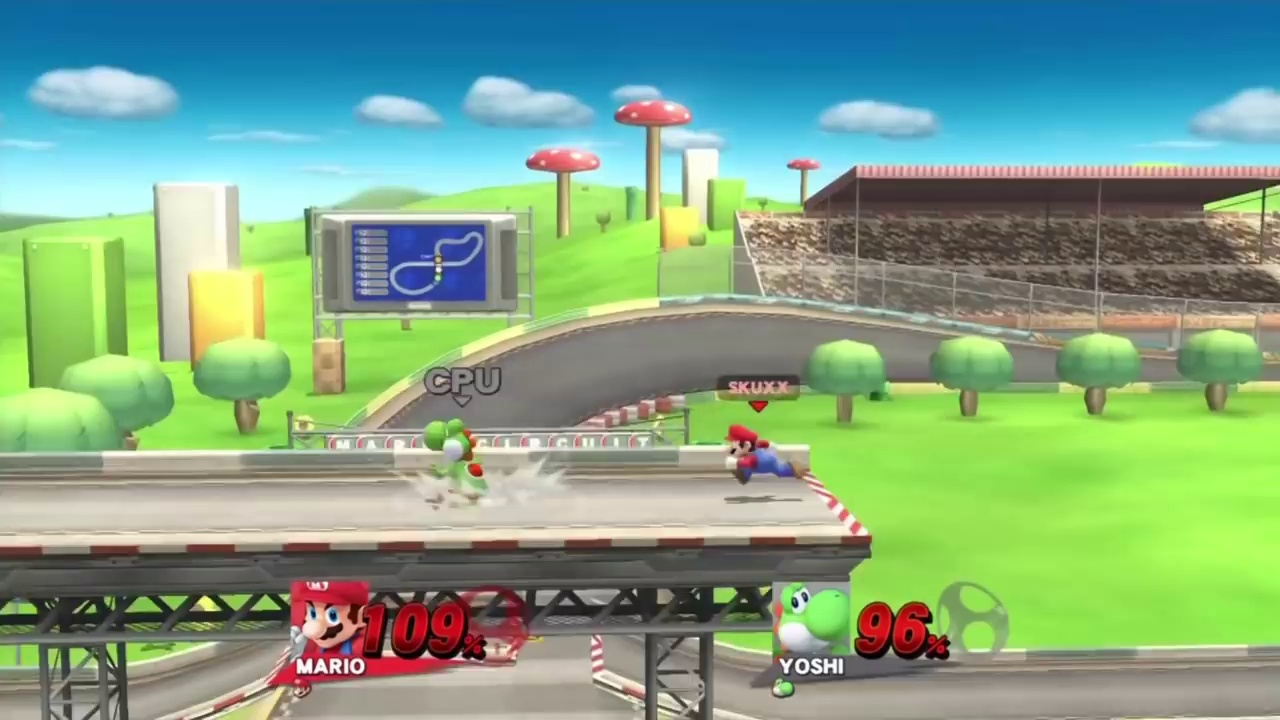Mario: (721, 421, 811, 494)
